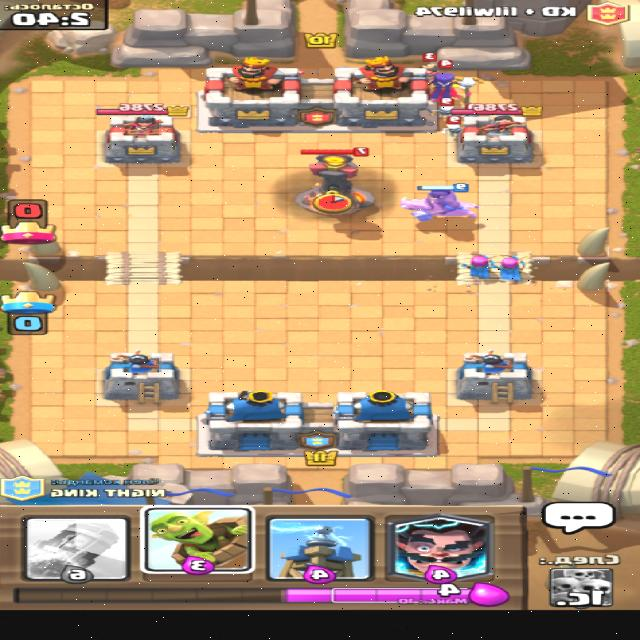Enemy-InfernoTower: (294, 146, 380, 216)
Enemy-Princess: (423, 51, 442, 84)
Enemy-Skeleton: (426, 97, 457, 117), (442, 114, 466, 138)
Enemy-Witch: (426, 59, 487, 105)
Player-Archer: (460, 252, 499, 280), (499, 252, 532, 281)
Player-HogRider: (400, 182, 486, 222)
